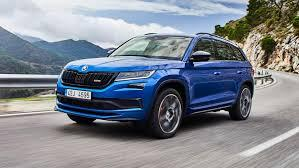skoda: (82, 66, 88, 71)
